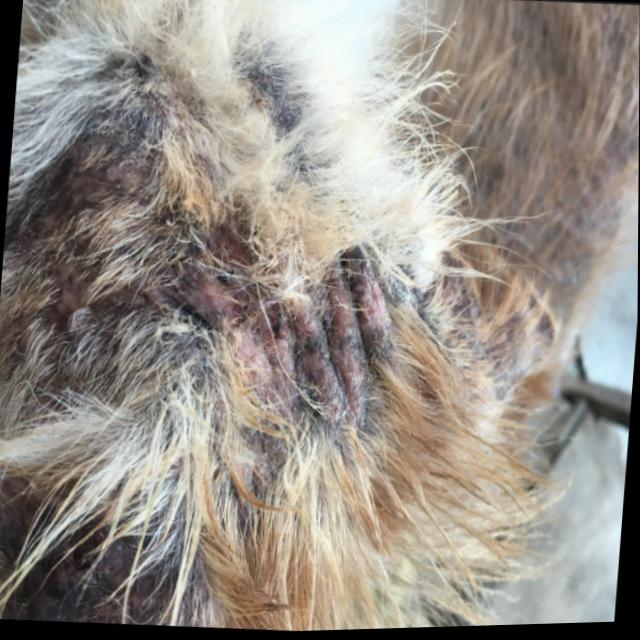demodicosis: (209, 204, 398, 427), (35, 88, 183, 301)
